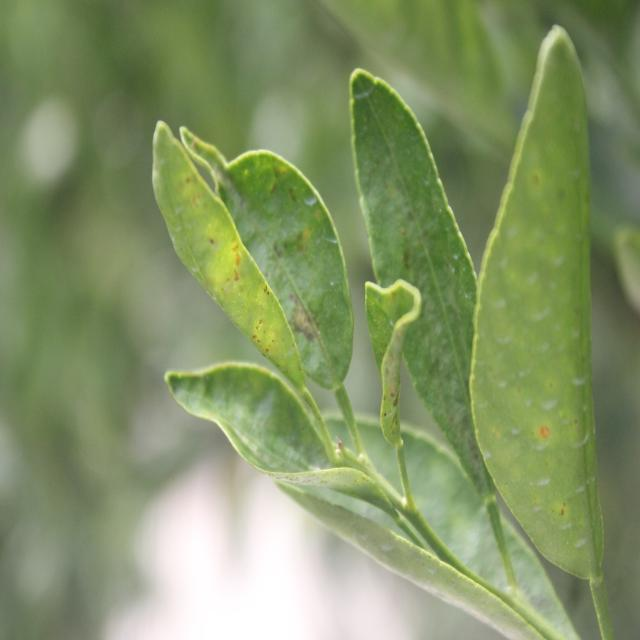canker: (524, 147, 589, 560), (190, 208, 304, 390), (239, 169, 335, 369), (378, 308, 411, 439)
